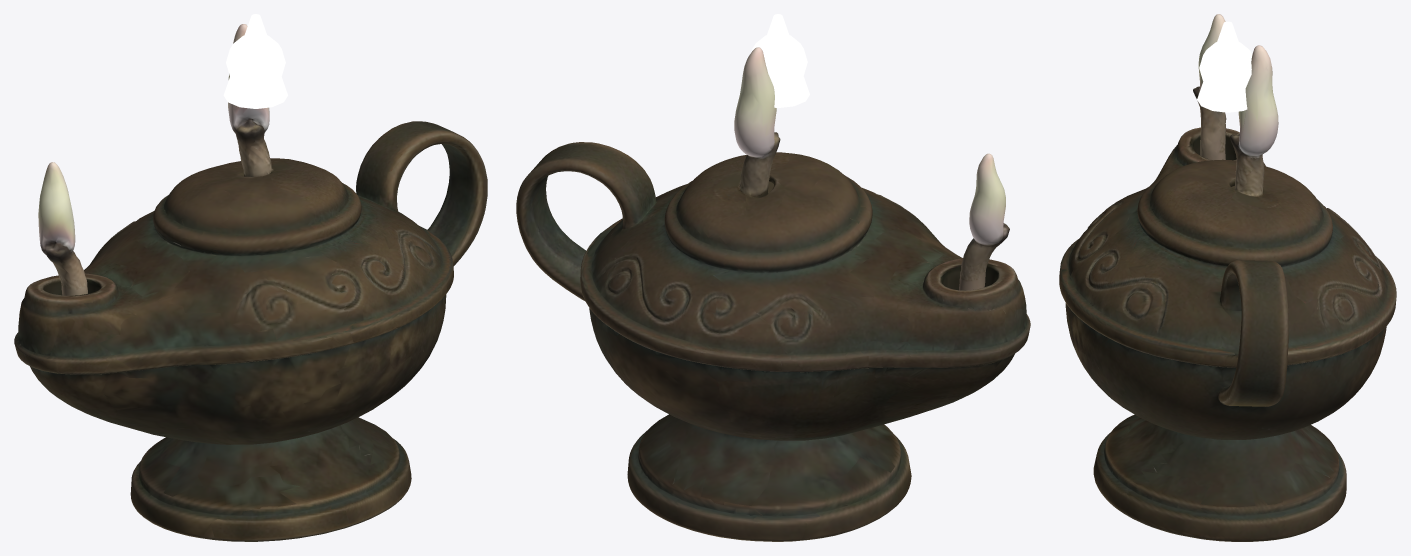
File: Heirloom_GT2.fbx
The picture shows the model from 3 angles, left to right: view 1: azimuth 30°, elevation 25°; view 2: azimuth 150°, elevation 25°; view 3: azimuth 270°, elevation 25°; orthographic projection. The views are drawn at different scales.
Parts seen in each view (by area): view 1: Body_GT2, OilLampEmber, OilLampFlame; view 2: Body_GT2, OilLampEmber, OilLampFlame; view 3: Body_GT2, OilLampEmber, OilLampFlame.
Part boxes in pixels (<box>): Body_GT2: <box>14,24,487,541</box>; OilLampEmber: <box>226,35,285,87</box>; OilLampFlame: <box>223,14,287,108</box>; Body_GT2: <box>516,47,1030,541</box>; OilLampEmber: <box>751,35,807,86</box>; OilLampFlame: <box>766,14,809,107</box>; Body_GT2: <box>1059,14,1396,541</box>; OilLampEmber: <box>1199,42,1252,91</box>; OilLampFlame: <box>1197,21,1247,112</box>.
Size of the model in its own units: 0.24 by 0.2311 by 0.1523.
